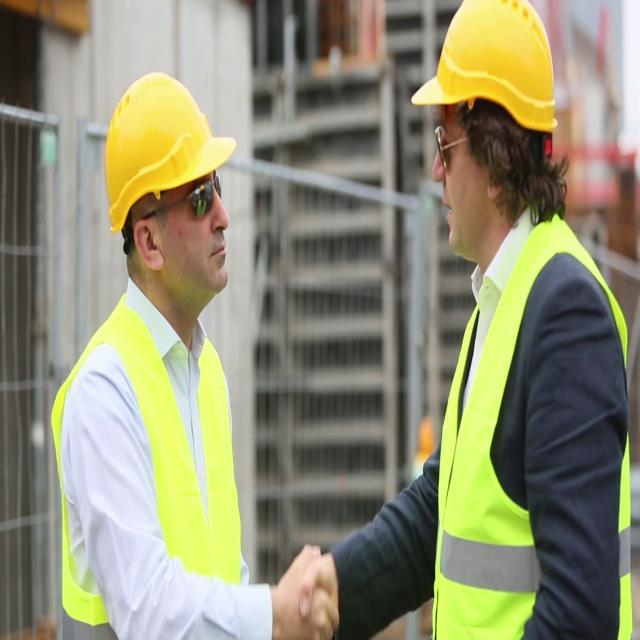goggles: (134, 169, 238, 235), (411, 112, 496, 184)
helmet: (91, 65, 244, 239), (406, 1, 567, 151)
vest: (435, 248, 640, 640), (74, 300, 242, 640)
